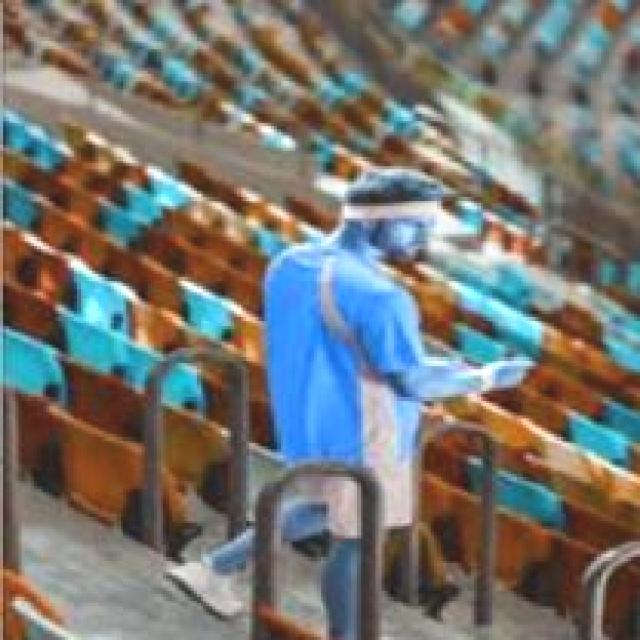downstair: (139, 465, 394, 640)
